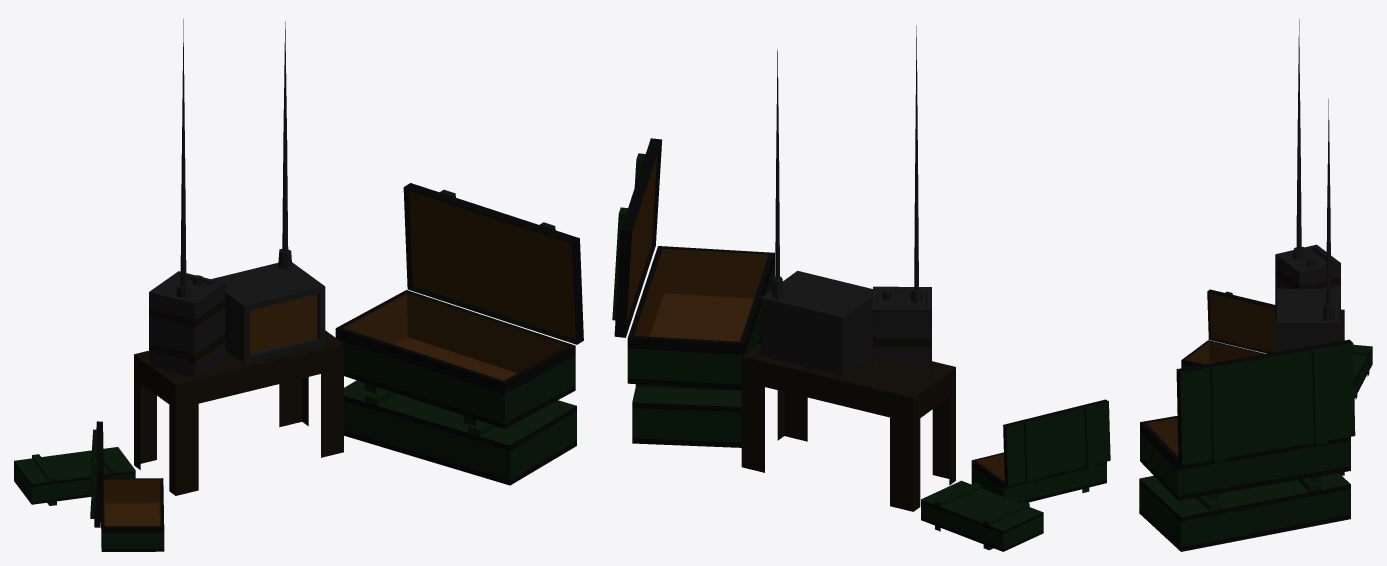
File: radio.obj
The picture shows the model from 3 angles, left to right: view 1: azimuth 30°, elevation 25°; view 2: azimuth 150°, elevation 25°; view 3: azimuth 270°, elevation 25°; orthographic projection. The views are drawn at different scales.
Parts seen in each view (by area): view 1: radio.001; view 2: radio.001; view 3: radio.001.
Part boxes in pixels (x1=…): radio.001: x1=14, y1=19, x2=583, y2=551; radio.001: x1=612, y1=26, x2=1110, y2=551; radio.001: x1=1139, y1=19, x2=1372, y2=551.
Bounding box in the file's own units: 1.68 × 1.59 × 0.8263.
